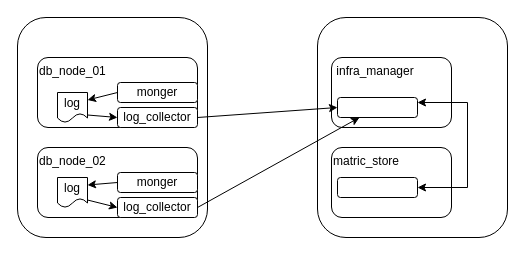
Image size: 525x255. Some labels were removed from this diagram. The box of each missing label's shape, as (x1, y1, x2, y2) in pixels:
db_resource_group: (16, 16, 208, 238)
infraManager: (336, 96, 418, 118)
monitoring_resource_group: (316, 16, 508, 238)
mysql: (336, 176, 418, 198)
